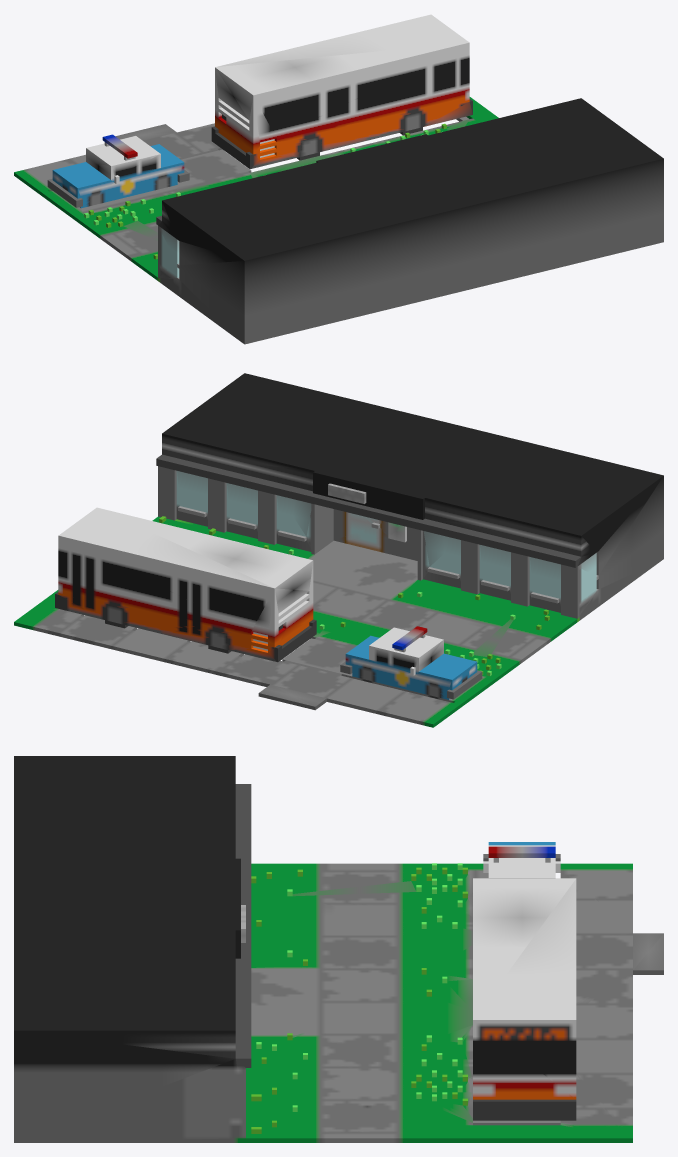
File: scene_hazmat2.dae
3 renders of one model, top to bottom at view 1: azimuth 30°, elevation 25°; view 2: azimuth 150°, elevation 25°; view 3: azimuth 270°, elevation 25°, orthographic. The views are drawn at different scales.
Visible parts, largest first — view 1: scene_hazmat2; view 2: scene_hazmat2; view 3: scene_hazmat2.
Part boxes in pixels (bbox=[...]): scene_hazmat2: bbox=[14, 14, 663, 344]; scene_hazmat2: bbox=[14, 373, 663, 727]; scene_hazmat2: bbox=[14, 756, 663, 1142].
Size of the model in its own units: 12.6 by 12.6 by 2.4.
